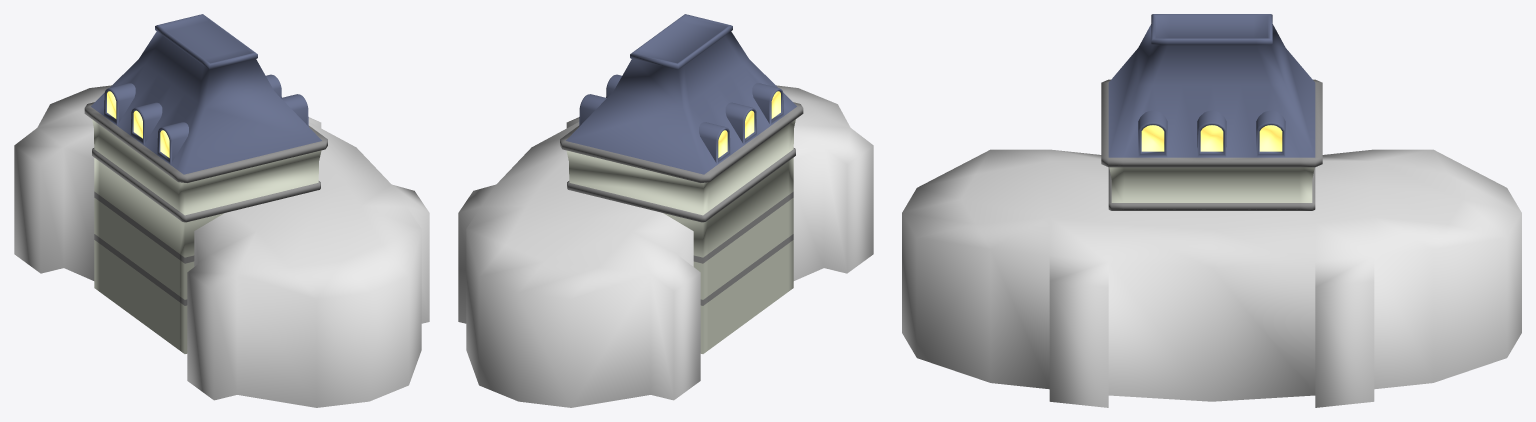
File: p-bld-hotel.glb
The picture shows the model from 3 angles, left to right: view 1: azimuth 30°, elevation 25°; view 2: azimuth 150°, elevation 25°; view 3: azimuth 270°, elevation 25°; orthographic projection. The views are drawn at different scales.
Parts seen in each view (by area): view 1: Base-col, Top-col; view 2: Base-col, Top-col; view 3: Base-col, Top-col.
Part boxes in pixels (bbox=[...]): Base-col: bbox=[14, 85, 429, 407]; Top-col: bbox=[84, 14, 327, 353]; Base-col: bbox=[458, 85, 873, 407]; Top-col: bbox=[560, 14, 803, 353]; Base-col: bbox=[902, 149, 1521, 407]; Top-col: bbox=[1101, 14, 1322, 210].
Bounding box in the file's own units: 22 × 22 × 42.
